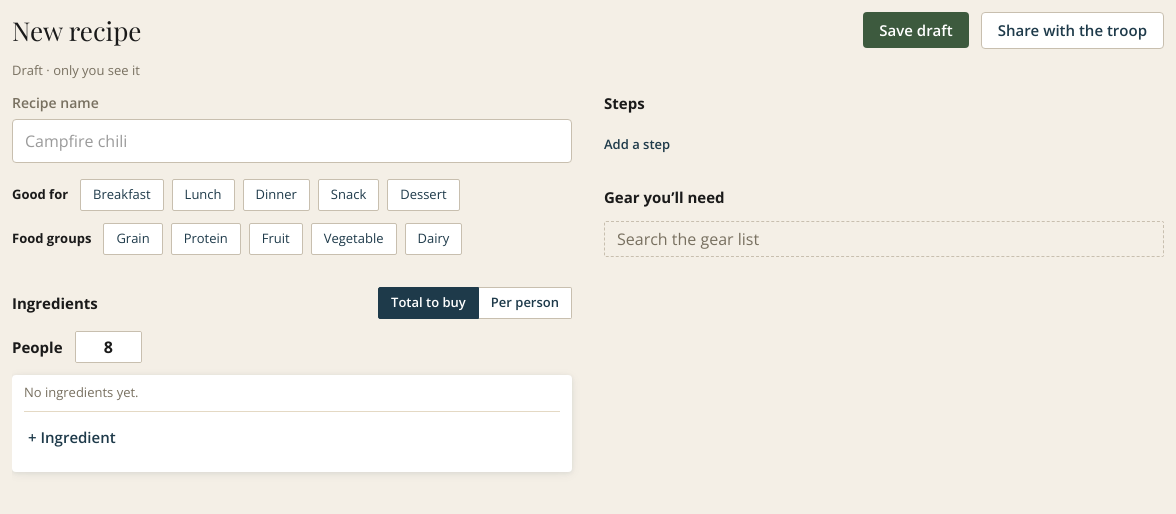
Test: RecipeEditor saving › Scout_SeesTheNameMarked_WhenSavingWithoutOne
Click the button "Save draft" at (916, 30), box [863,12,969,48]
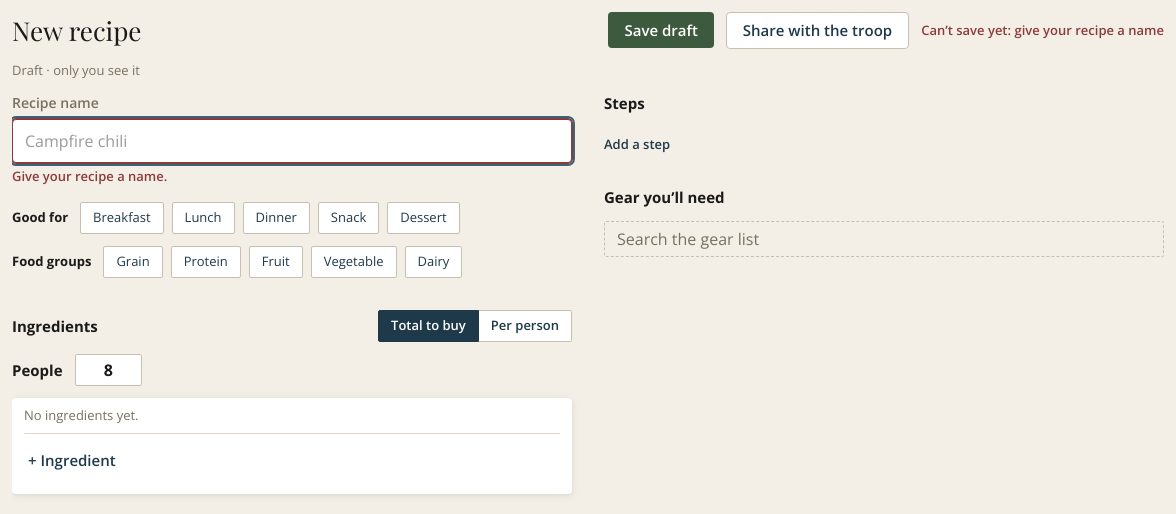
Expected: the message reads "Can’t save yet: give your recipe a name", [921,20,1164,40]
Type "C" into the field labelled "Recipe name" at (292, 141), box [12,119,572,163]
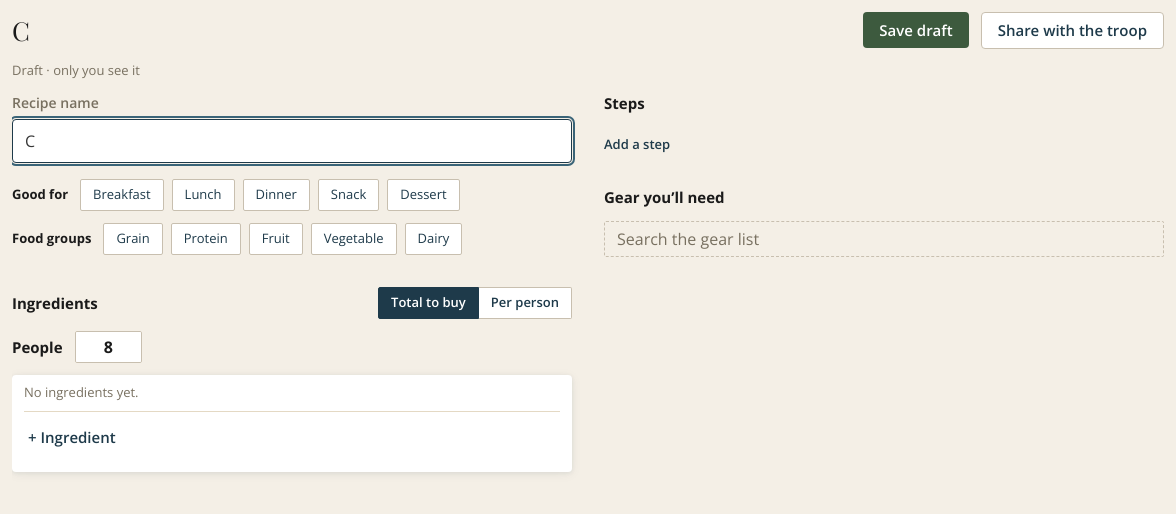
Expected: the message "Can’t save yet: give your recipe a name" is gone
